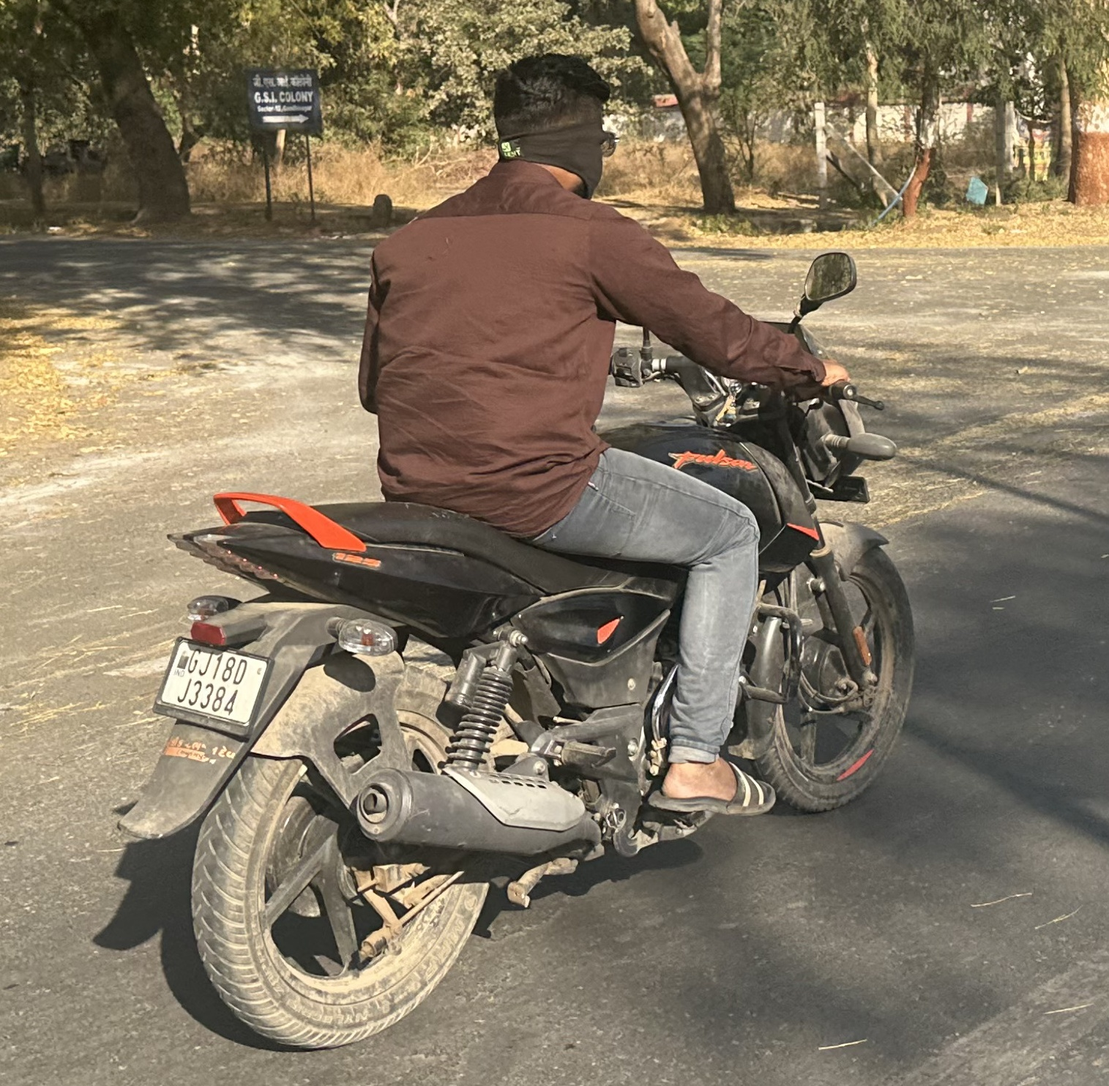BikeWithRider: (94, 37, 936, 1060)
NoHelmet: (466, 42, 634, 204)
